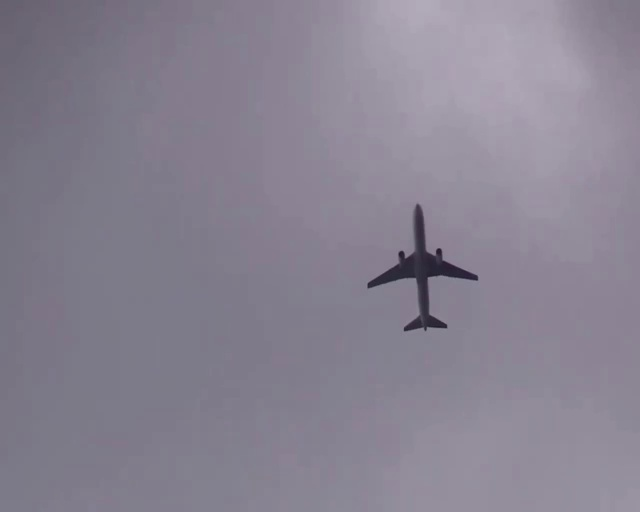AIRPLANE: (367, 201, 478, 332)
